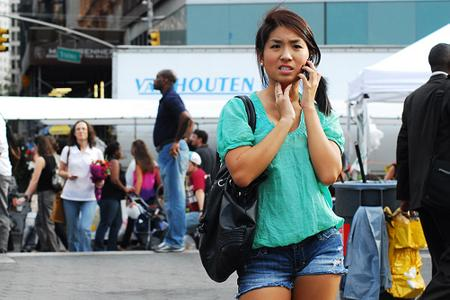person: (199, 11, 348, 299)
